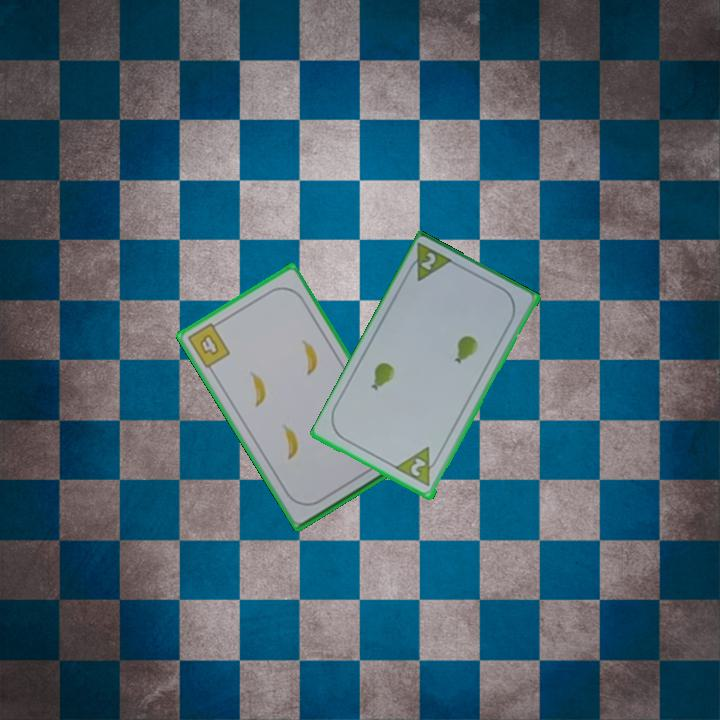2p: (402, 240, 457, 285), (407, 454, 429, 480)
4b: (183, 317, 233, 371)
